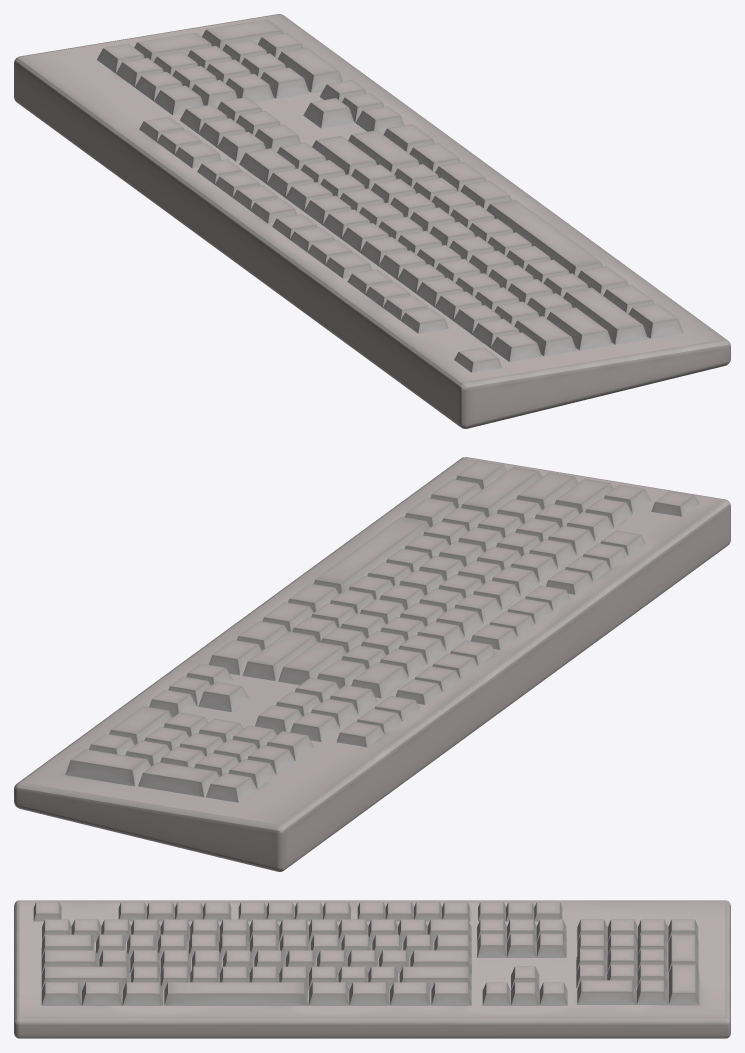
The model's file is keyborad.glb.
3 renders of one model, top to bottom at view 1: azimuth 30°, elevation 25°; view 2: azimuth 150°, elevation 25°; view 3: azimuth 270°, elevation 25°, orthographic. The views are drawn at different scales.
Parts seen in each view (by area): view 1: Object_2; view 2: Object_2; view 3: Object_2.
Part boxes in pixels (<box>): Object_2: <box>14,14,730,428</box>; Object_2: <box>14,457,730,871</box>; Object_2: <box>14,900,730,1038</box>.
Size of the model in its own units: 4.36 by 0.8306 by 12.57.
1 material, 1 textured.
